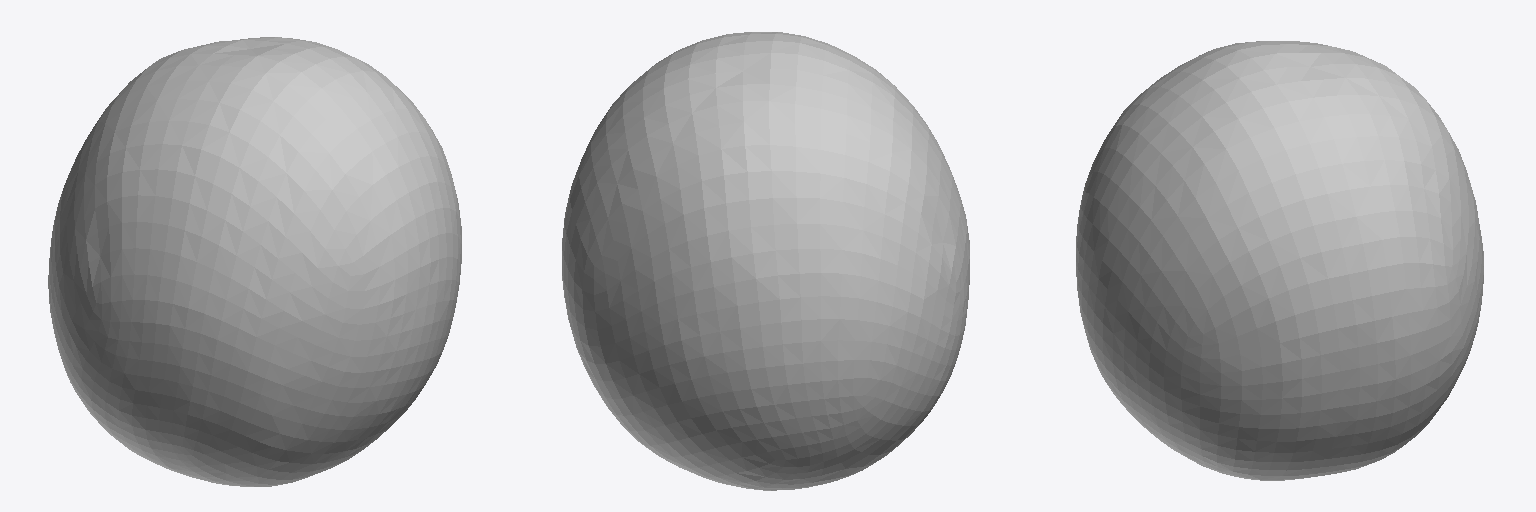
Rendered from TexturesCom_Watermelon2_lp.obj.
3 views of the same model, side by side, from view 1: azimuth 30°, elevation 25°; view 2: azimuth 150°, elevation 25°; view 3: azimuth 270°, elevation 25° (orthographic).
Visible parts, largest first — view 1: 10018_watermelon_lp; view 2: 10018_watermelon_lp; view 3: 10018_watermelon_lp.
Part boxes in pixels (bbox=[...]): 10018_watermelon_lp: bbox=[48, 37, 461, 486]; 10018_watermelon_lp: bbox=[562, 32, 969, 490]; 10018_watermelon_lp: bbox=[1076, 41, 1483, 480].
Size of the model in its own units: 20.59 by 22.32 by 20.36.